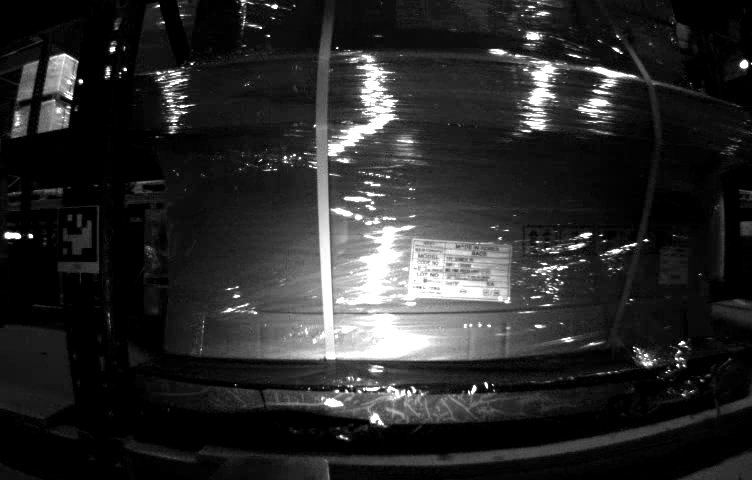True Barcode: (657, 245, 693, 287)
